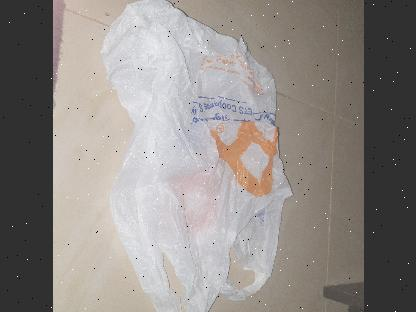Others: (91, 0, 298, 312)
